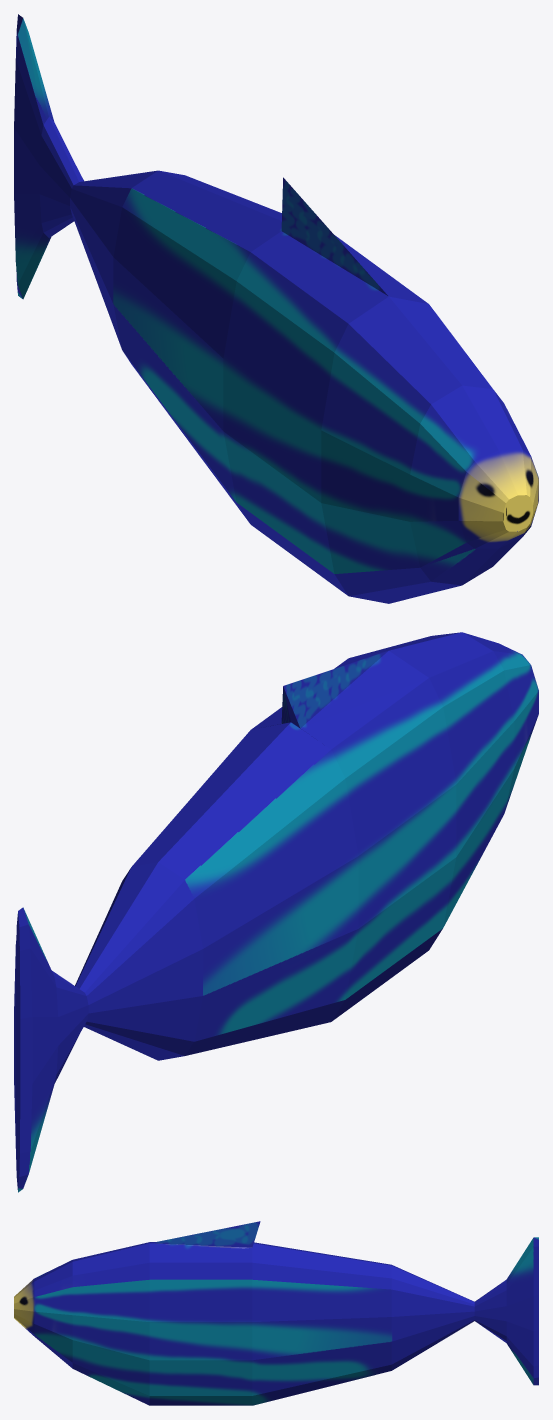
File: ryba.obj
3 views of the same model, one above another, from view 1: azimuth 30°, elevation 25°; view 2: azimuth 150°, elevation 25°; view 3: azimuth 270°, elevation 25° (orthographic). The views are drawn at different scales.
Parts seen in each view (by area): view 1: Cube; view 2: Cube; view 3: Cube.
Part boxes in pixels (x1,y1,x2,y2): Cube: (14,14,538,603); Cube: (14,632,538,1192); Cube: (14,1221,538,1405).
Size of the model in its own units: 1.59 by 3.94 by 10.22.
Materials: 1 (1 with a texture image).
